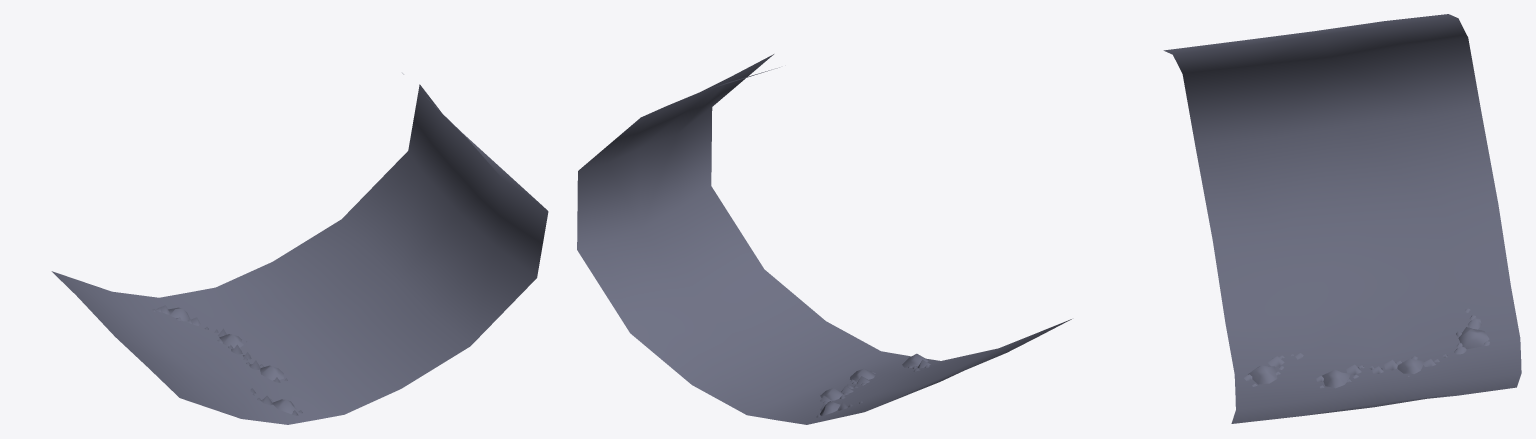
The model's file is Arctic_Luge_Tunnel_Left_Mid_B.glb.
3 views of the same model, side by side, from view 1: azimuth 30°, elevation 25°; view 2: azimuth 150°, elevation 25°; view 3: azimuth 270°, elevation 25° (orthographic). The views are drawn at different scales.
Visible parts, largest first — view 1: Arctic_Luge_Tunnel_Left_Mid_B; view 2: Arctic_Luge_Tunnel_Left_Mid_B; view 3: Arctic_Luge_Tunnel_Left_Mid_B.
Boxes of the visible parts, <box> form: Arctic_Luge_Tunnel_Left_Mid_B: <box>51,73,548,424</box>; Arctic_Luge_Tunnel_Left_Mid_B: <box>577,54,1071,424</box>; Arctic_Luge_Tunnel_Left_Mid_B: <box>1163,14,1521,423</box>.
Bounding box in the file's own units: 4.44 × 3.49 × 3.13.
